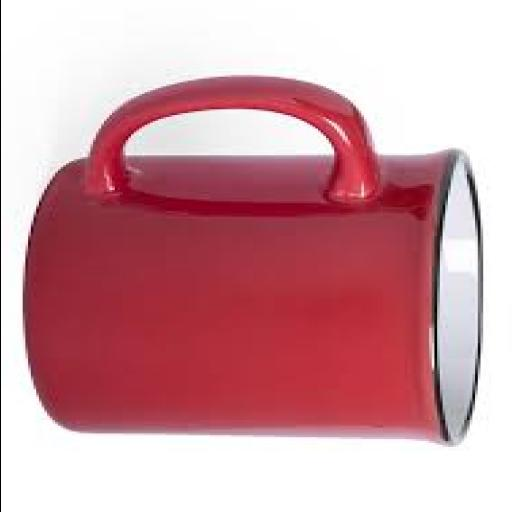red mug: (27, 79, 482, 443)
